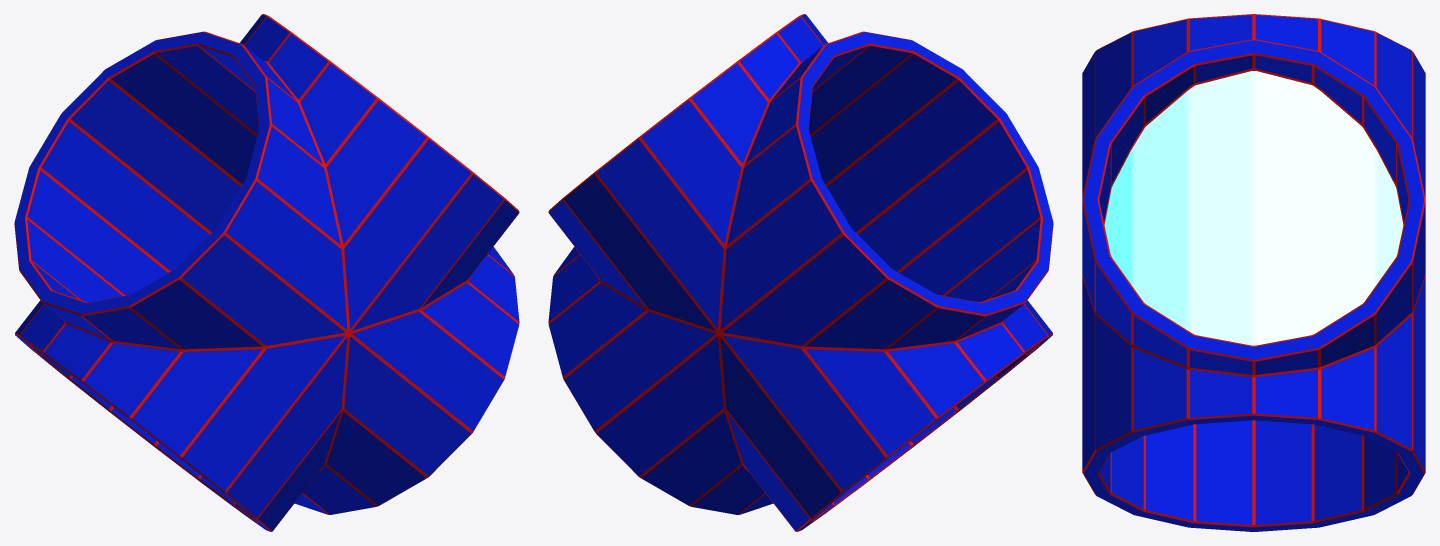
File: L9_Cross_Center.fbx
3 views of the same model, side by side, from view 1: azimuth 30°, elevation 25°; view 2: azimuth 150°, elevation 25°; view 3: azimuth 270°, elevation 25° (orthographic). The views are drawn at different scales.
Visible parts, largest first — view 1: L9_Cross_Center; view 2: L9_Cross_Center; view 3: L9_Cross_Center.
Part boxes in pixels (bbox=[...]): L9_Cross_Center: bbox=[14, 14, 519, 531]; L9_Cross_Center: bbox=[548, 14, 1053, 531]; L9_Cross_Center: bbox=[1082, 14, 1425, 531].
Size of the model in its own units: 1578 by 1578 by 998.
